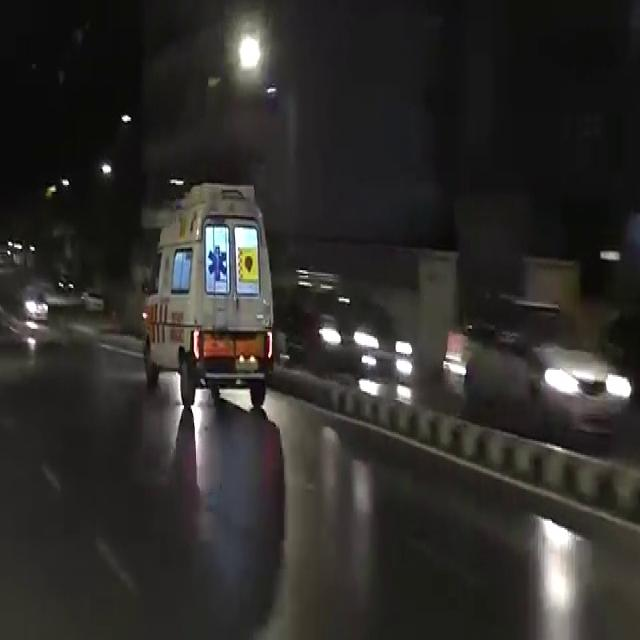ambulance: (142, 192, 307, 426)
